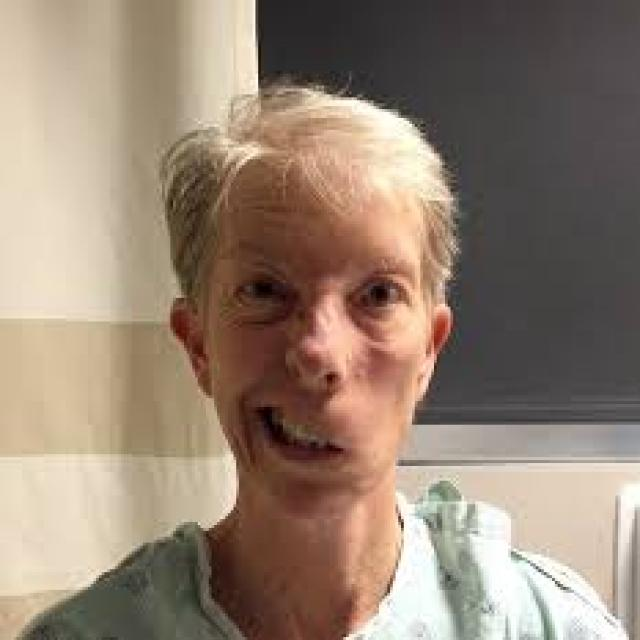stroke_face: (208, 142, 453, 516)
